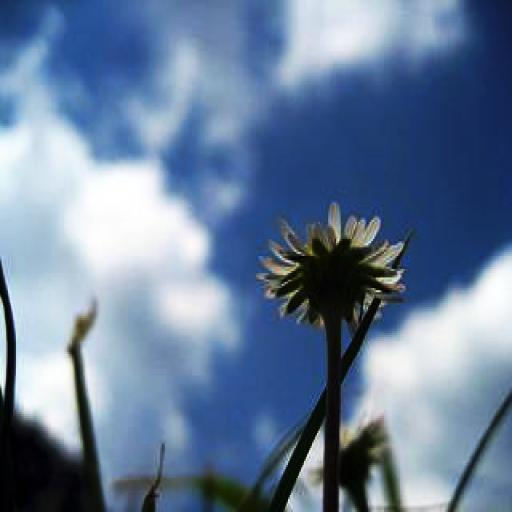daisy: (254, 205, 408, 324)
